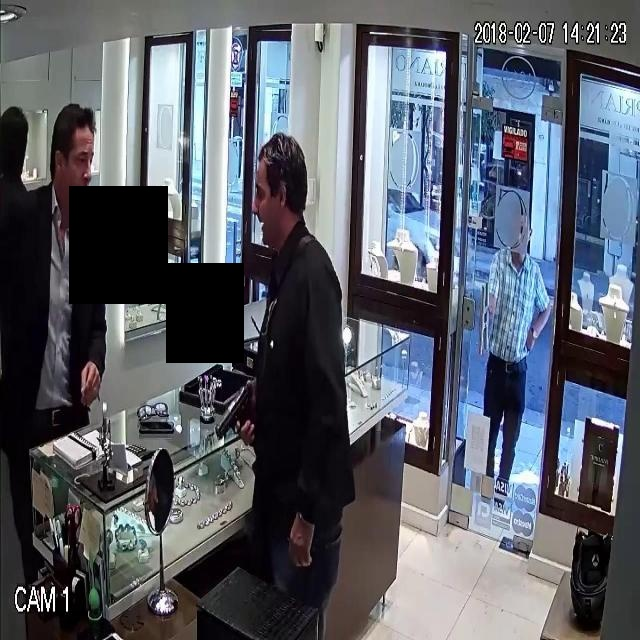gun: (207, 363, 254, 475)
